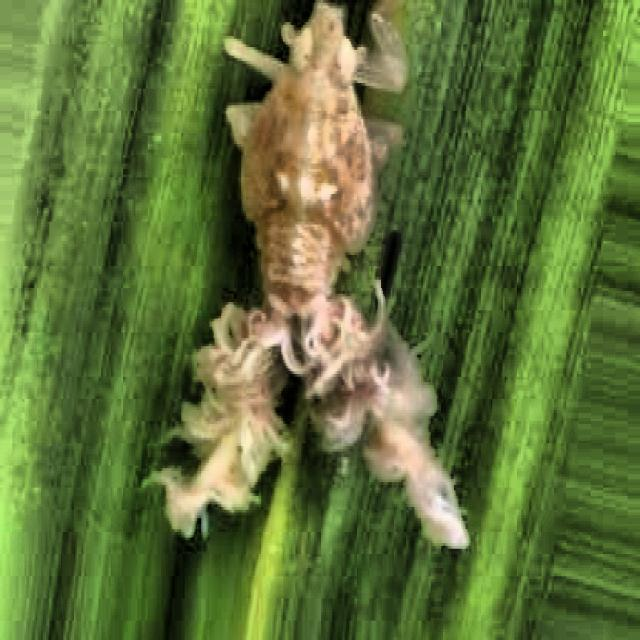Pyrilla-perpusilla: (165, 0, 458, 558)
